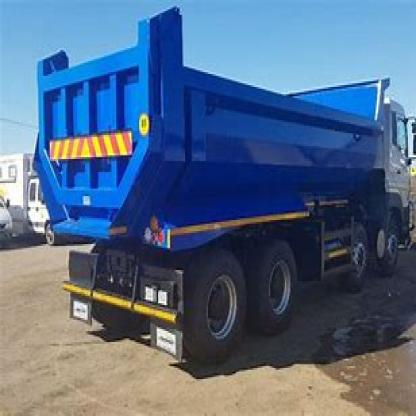dump_truck: (34, 13, 414, 360)
